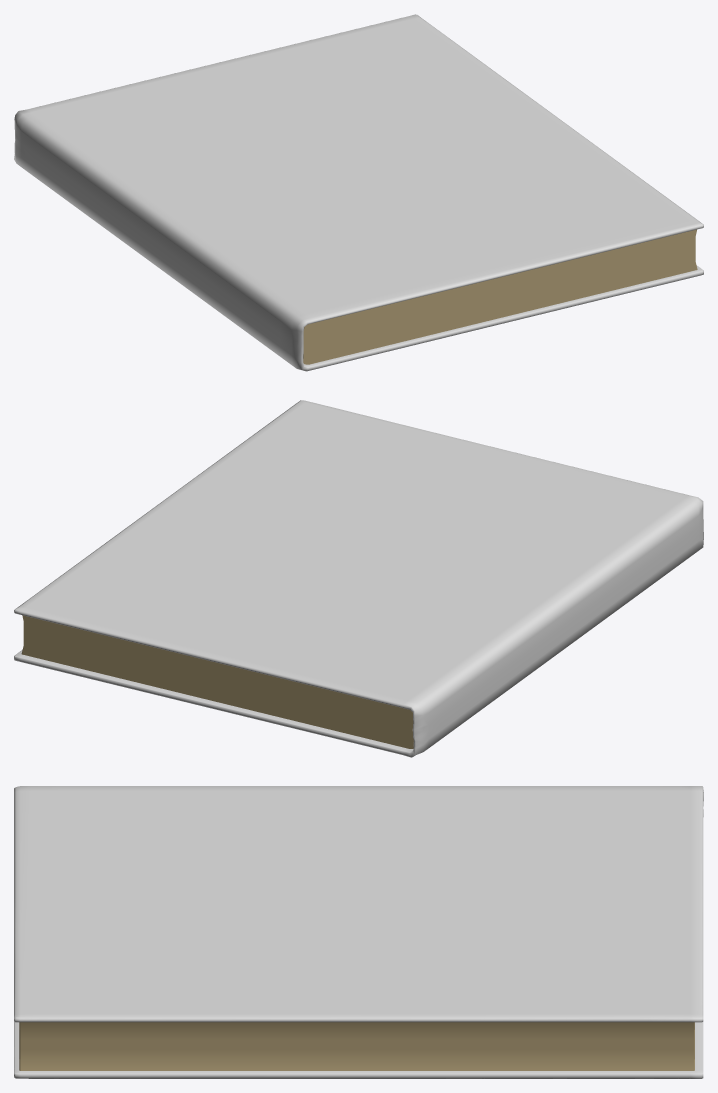
File: Notepad.fbx
3 views of the same model, one above another, from view 1: azimuth 30°, elevation 25°; view 2: azimuth 150°, elevation 25°; view 3: azimuth 270°, elevation 25° (orthographic). The views are drawn at different scales.
Visible parts, largest first — view 1: Notepad_starnick; view 2: Notepad_starnick; view 3: Notepad_starnick.
Part boxes in pixels (box(x1,y1,x2,y2)): Notepad_starnick: box(14, 14, 703, 371); Notepad_starnick: box(14, 400, 703, 757); Notepad_starnick: box(14, 786, 703, 1078).
Size of the model in its own units: 147 by 181 by 17.84.
